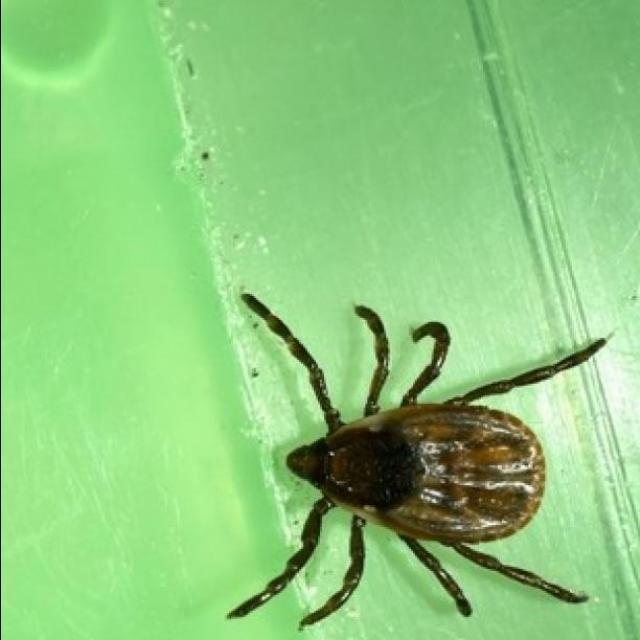Rhipicephalus Sanguineus-F: (224, 292, 606, 629)
